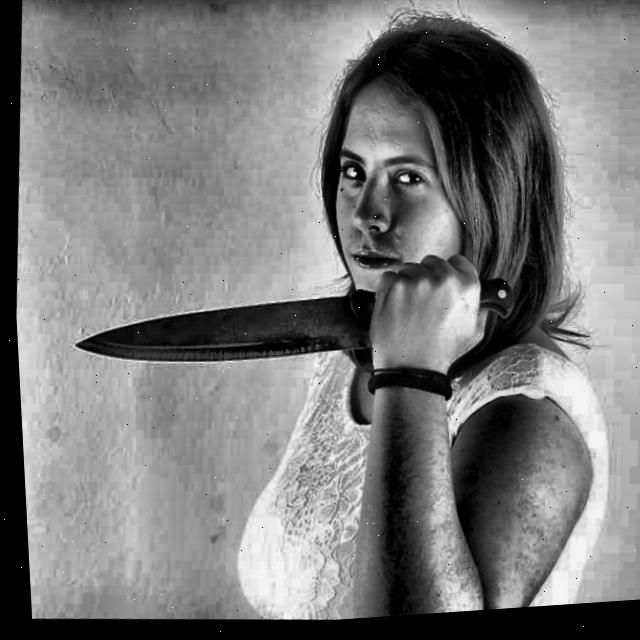pisau: (60, 251, 531, 379)
